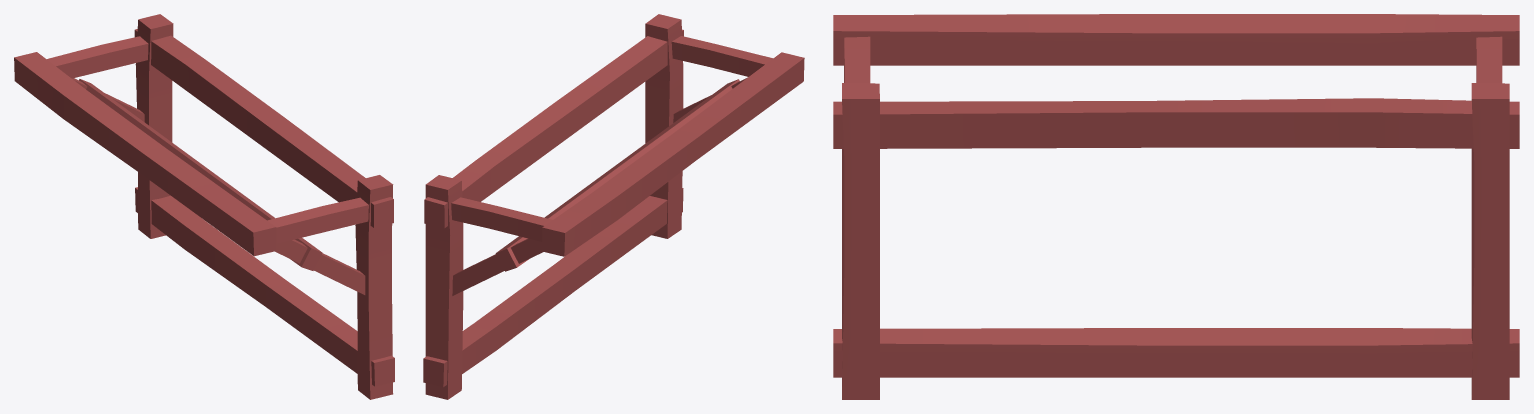
File: Small_Beam_Structure_02_Lod0.fbx
3 renders of one model, left to right at view 1: azimuth 30°, elevation 25°; view 2: azimuth 150°, elevation 25°; view 3: azimuth 270°, elevation 25°, orthographic. The views are drawn at different scales.
Visible parts, largest first — view 1: Small_Beam_Structure_02_Lod0; view 2: Small_Beam_Structure_02_Lod0; view 3: Small_Beam_Structure_02_Lod0.
Part boxes in pixels (<box>): Small_Beam_Structure_02_Lod0: <box>14,14,394,399</box>; Small_Beam_Structure_02_Lod0: <box>423,14,804,399</box>; Small_Beam_Structure_02_Lod0: <box>833,14,1519,399</box>.
Bounding box in the file's own units: 52.25 × 72.6 × 150.
